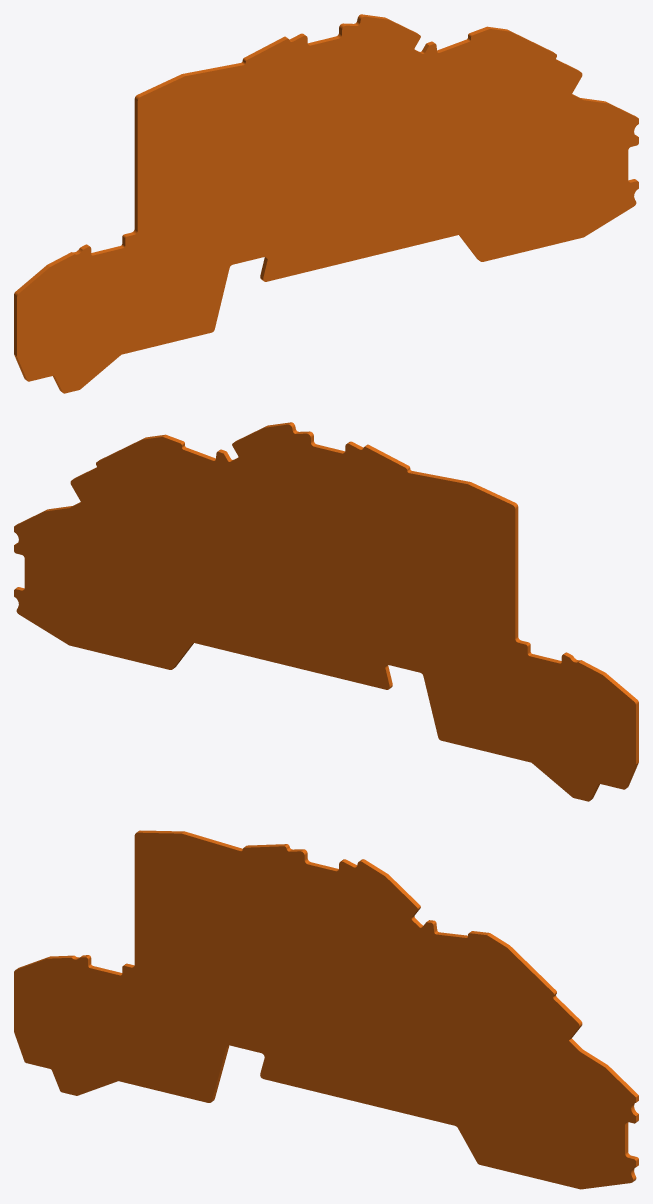
File: Wago.2003-7692.glb
The picture shows the model from 3 angles, top to bottom: view 1: azimuth 30°, elevation 25°; view 2: azimuth 150°, elevation 25°; view 3: azimuth 330°, elevation 25°; orthographic projection.
Visible parts, largest first — view 1: 2003-7692_HI; view 2: 2003-7692_HI; view 3: 2003-7692_HI.
Part boxes in pixels (left/top/right/bottom): 2003-7692_HI: left=14, top=14, right=638, bottom=393; 2003-7692_HI: left=14, top=422, right=638, bottom=801; 2003-7692_HI: left=14, top=830, right=638, bottom=1189.
Bounding box in the file's own units: 94.8 × 44.27 × 0.8.
